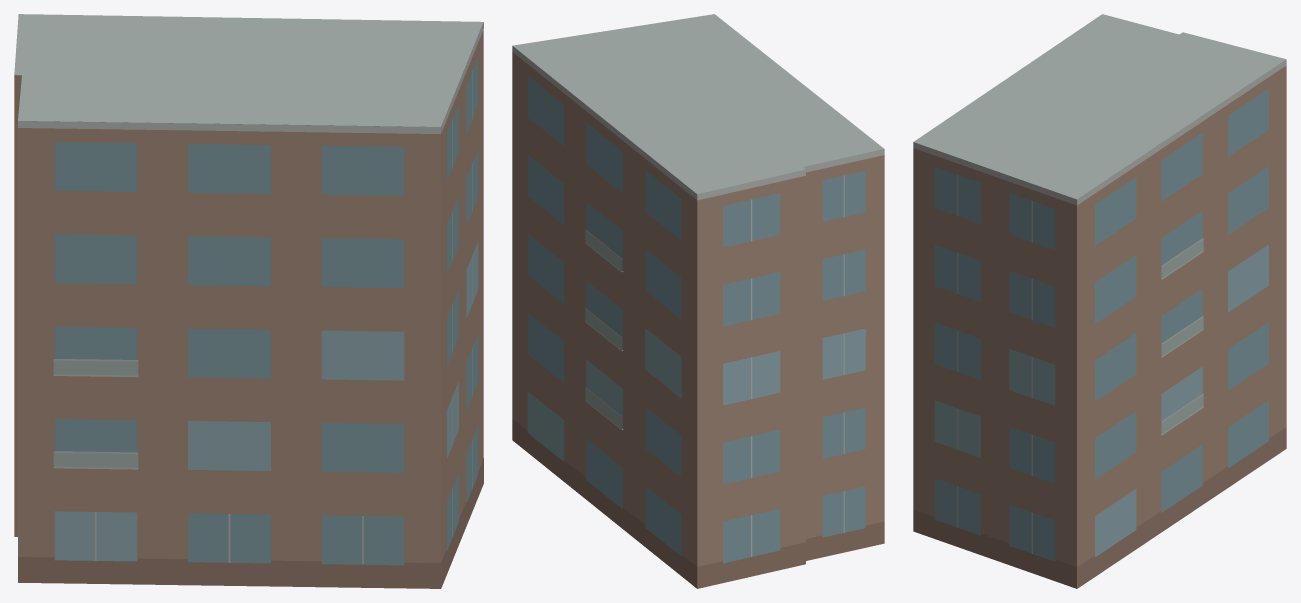
Rendered from survey-upis-32944683.glb.
3 renders of one model, left to right at view 1: azimuth 30°, elevation 25°; view 2: azimuth 150°, elevation 25°; view 3: azimuth 270°, elevation 25°, orthographic. The views are drawn at different scales.
Parts seen in each view (by area): view 1: survey-upis-32944683.tmp; view 2: survey-upis-32944683.tmp; view 3: survey-upis-32944683.tmp.
Part boxes in pixels (bbox=[...]): survey-upis-32944683.tmp: bbox=[14, 14, 483, 588]; survey-upis-32944683.tmp: bbox=[512, 14, 884, 588]; survey-upis-32944683.tmp: bbox=[913, 14, 1286, 588].
Size of the model in its own units: 16.2 by 15.85 by 13.78.
